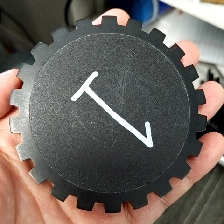gear: (7, 14, 208, 215)
